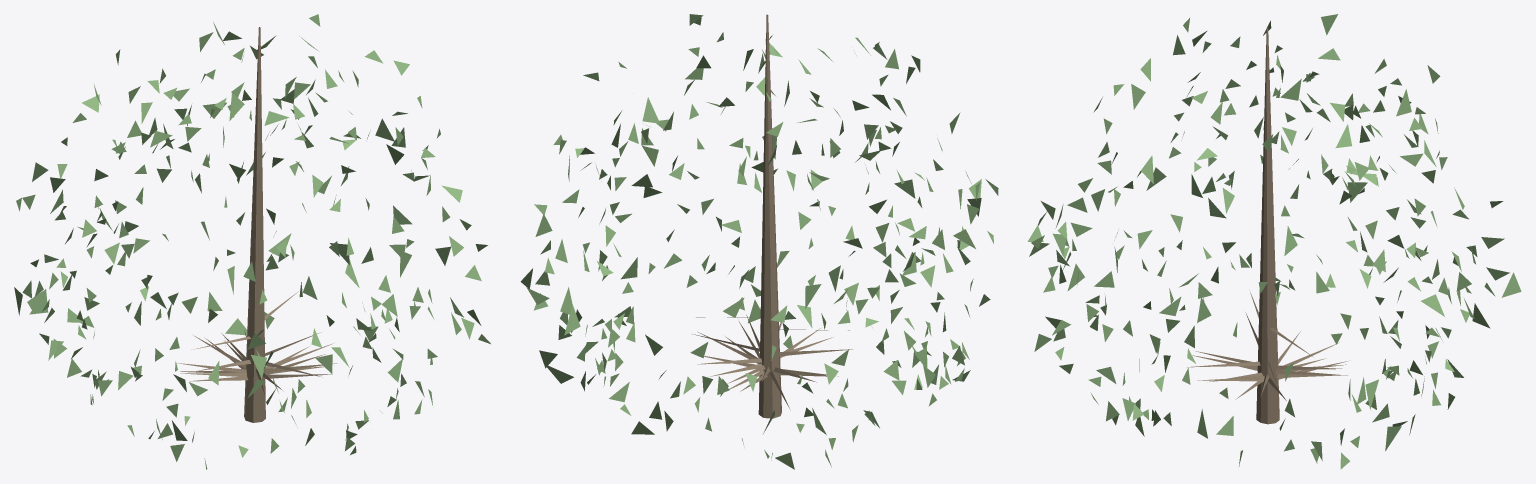
File: env_shrub_boxwood.glb
3 views of the same model, side by side, from view 1: azimuth 30°, elevation 25°; view 2: azimuth 150°, elevation 25°; view 3: azimuth 270°, elevation 25° (orthographic).
Parts seen in each view (by area): view 1: env_shrub_boxwood_foliage, env_shrub_boxwood_trunk; view 2: env_shrub_boxwood_foliage, env_shrub_boxwood_trunk; view 3: env_shrub_boxwood_foliage, env_shrub_boxwood_trunk.
Boxes of the visible parts, x1=… form: env_shrub_boxwood_foliage: x1=14, y1=14, x2=490, y2=469; env_shrub_boxwood_trunk: x1=177, y1=27, x2=337, y2=422; env_shrub_boxwood_foliage: x1=520, y1=14, x2=998, y2=469; env_shrub_boxwood_trunk: x1=692, y1=14, x2=852, y2=418; env_shrub_boxwood_foliage: x1=1027, y1=14, x2=1521, y2=469; env_shrub_boxwood_trunk: x1=1187, y1=28, x2=1349, y2=424.
Bounding box in the file's own units: 1.84 × 1.7 × 1.94.
